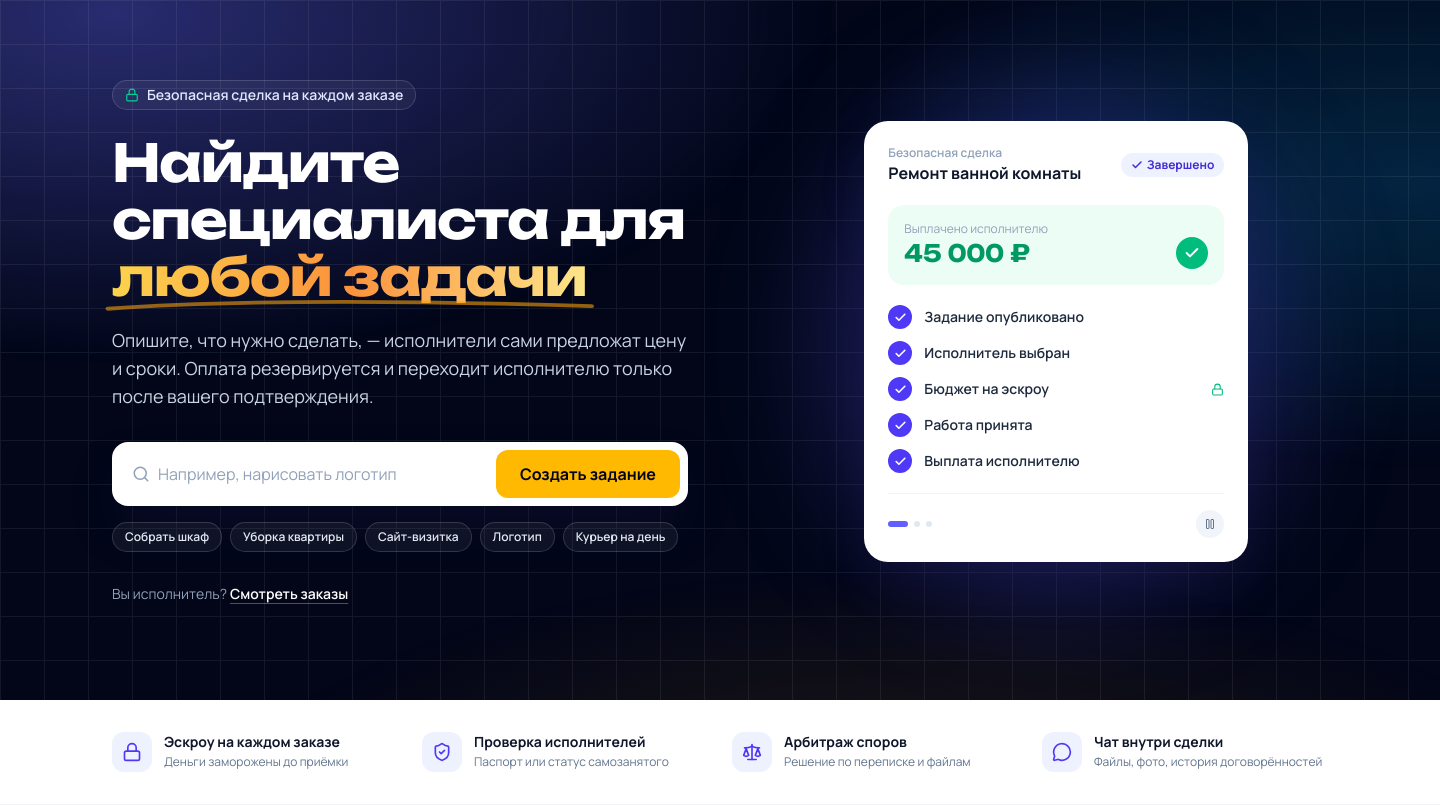
HomePage › пример сделки проходит шаги, встаёт на паузу по кнопке и переходит к следующей сделке
Check: the text "Выплачено исполнителю" is shown, box [904, 221, 1048, 237]
Click the button named "Остановить пример" at (1210, 524), box [1196, 510, 1224, 538]
Wait 30000 ms
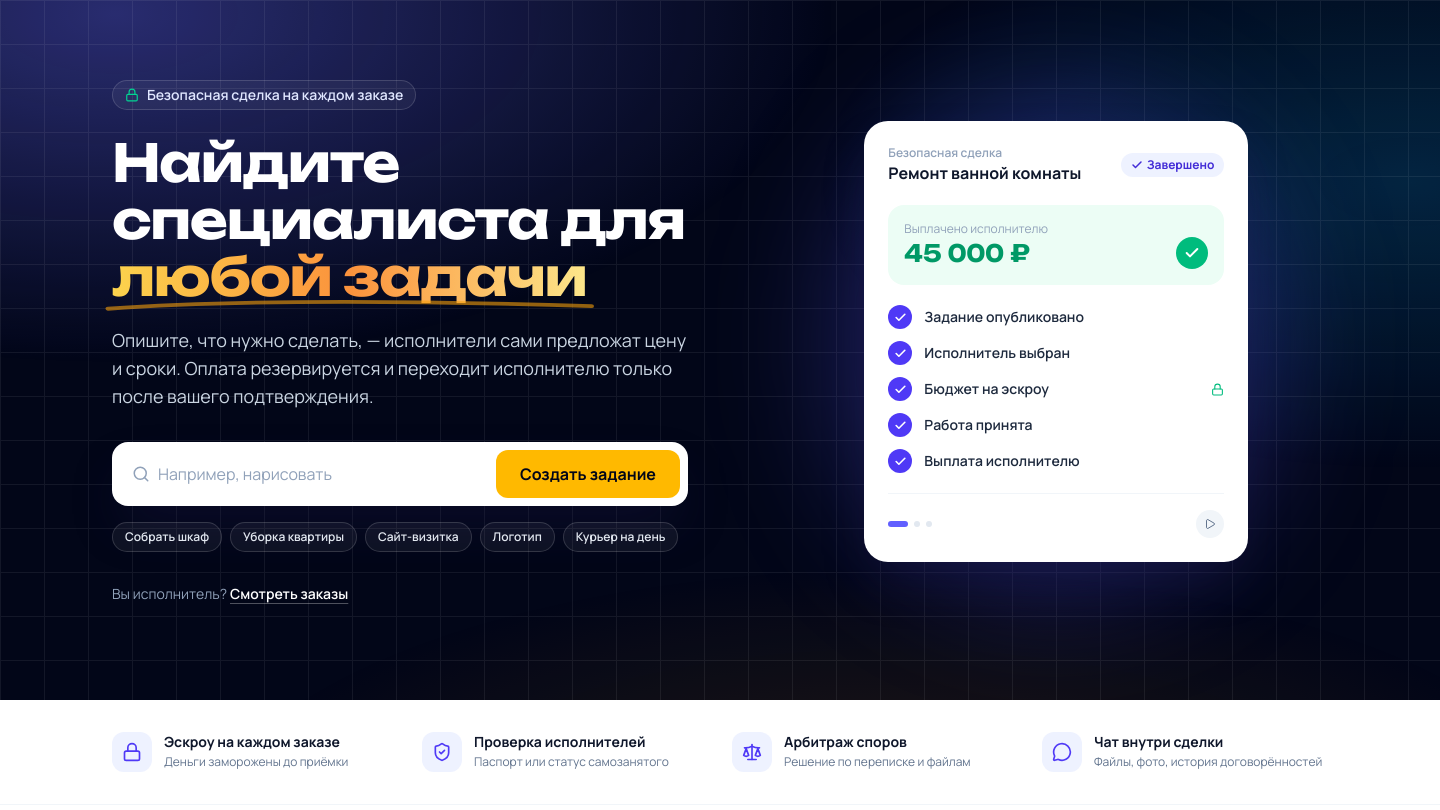
Check: the text "Выплачено исполнителю" is shown, box [904, 221, 1048, 237]
Click the button named "Продолжить пример" at (1210, 524), box [1196, 510, 1224, 538]
Wait 3050 ms
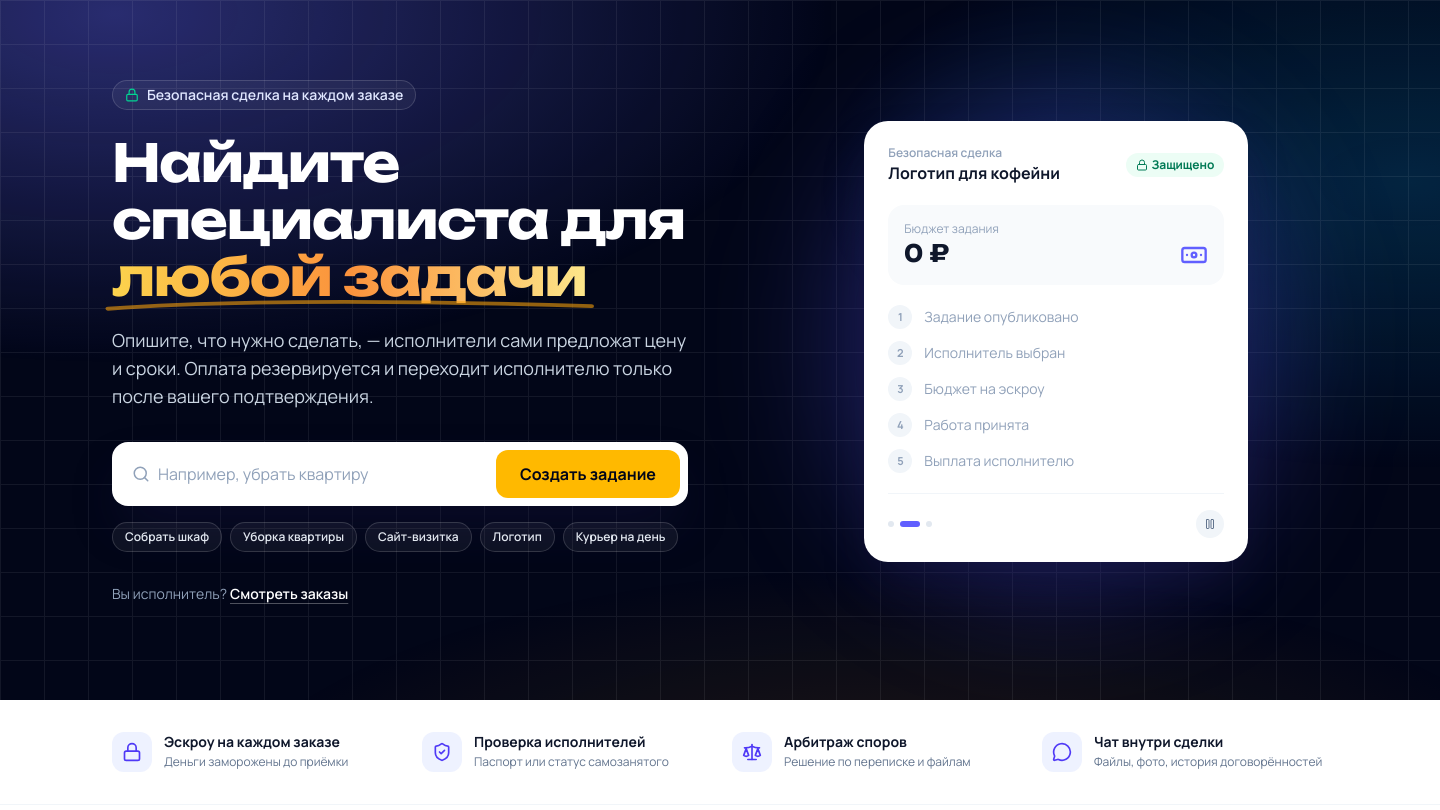
Check: the text "Логотип для кофейни" is shown, box [888, 161, 1060, 185]
Check: the text "Бюджет задания" is shown, box [904, 221, 999, 237]
